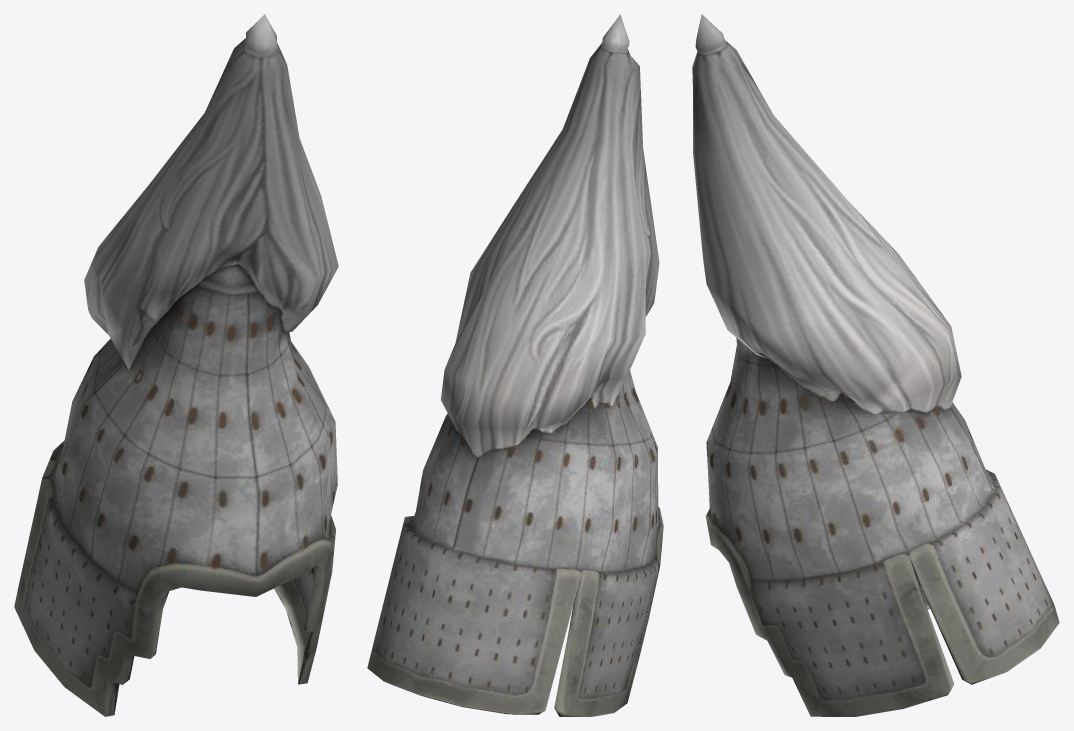
Rendered from rider-helmet-slice-championcavalry.glb.
The picture shows the model from 3 angles, left to right: view 1: azimuth 30°, elevation 25°; view 2: azimuth 150°, elevation 25°; view 3: azimuth 270°, elevation 25°; orthographic projection. The views are drawn at different scales.
Bounding box in the file's own units: 0.242 × 0.6697 × 0.3381.
Materials: 1 (1 with a texture image).
